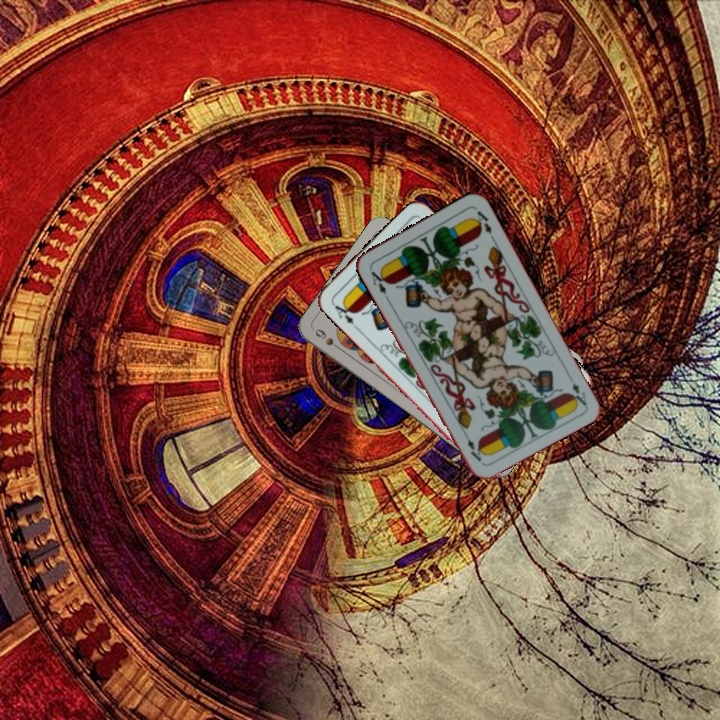EA: (365, 264, 391, 302), (564, 371, 589, 409), (328, 298, 356, 327)
S9: (311, 325, 346, 354)
